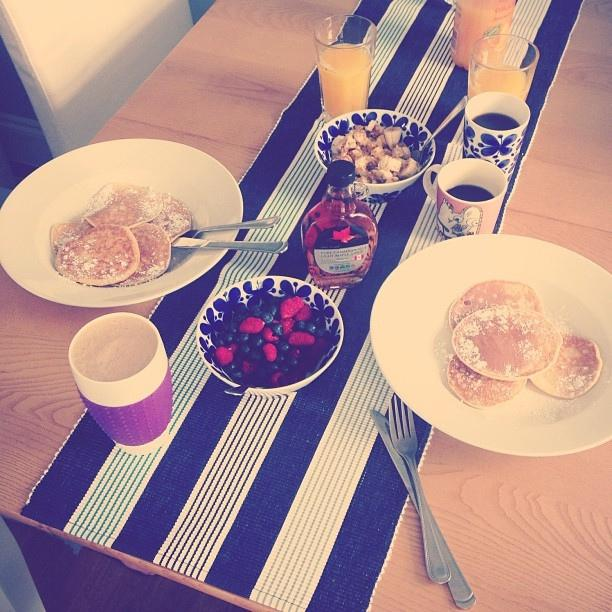blueberry: (252, 367, 270, 386), (248, 334, 266, 350), (270, 322, 284, 337), (267, 304, 281, 319), (305, 321, 318, 335), (232, 314, 246, 326), (250, 348, 264, 360), (296, 360, 310, 372), (250, 304, 262, 317), (255, 296, 268, 308), (233, 351, 245, 364), (262, 313, 274, 326), (284, 358, 298, 369), (228, 322, 240, 334), (278, 374, 290, 386), (313, 311, 324, 323), (288, 348, 300, 359), (278, 342, 290, 353), (228, 342, 239, 353), (235, 303, 246, 314), (238, 334, 250, 344), (269, 296, 281, 306), (241, 375, 253, 385), (315, 328, 326, 338), (300, 346, 310, 357), (230, 362, 242, 371), (276, 355, 286, 365), (296, 320, 306, 330), (280, 364, 289, 374), (270, 362, 279, 372), (216, 338, 224, 347), (241, 344, 248, 354), (232, 335, 240, 343), (262, 359, 269, 366)
raspberry: (280, 296, 304, 320), (240, 317, 264, 333), (289, 332, 315, 346), (261, 326, 279, 343), (280, 318, 296, 337), (294, 305, 310, 322), (263, 344, 277, 362), (271, 373, 289, 386), (242, 360, 258, 373), (224, 343, 238, 354)
